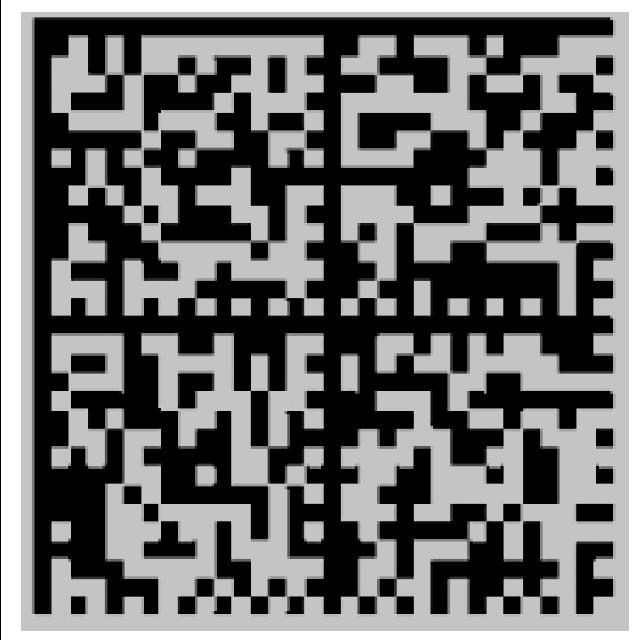Data-Matrix: (20, 12, 628, 631)
